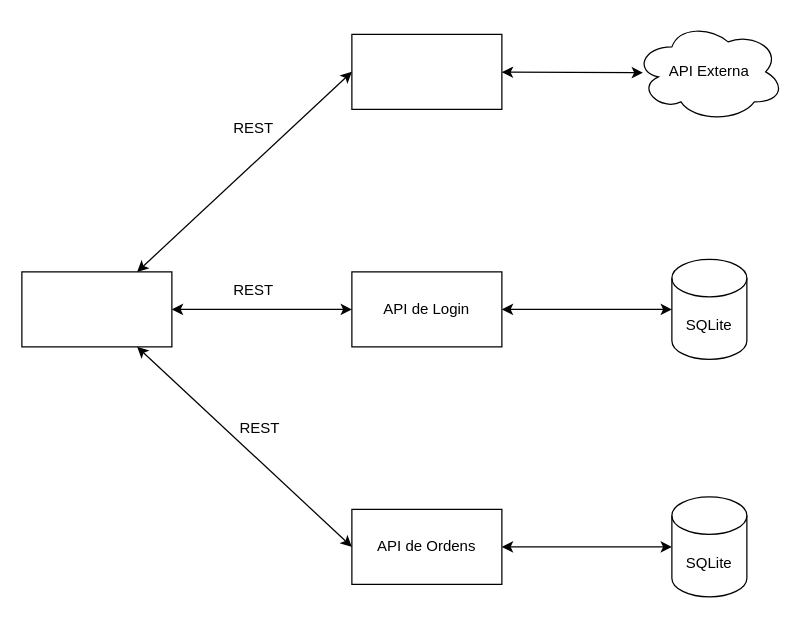
The diagram is 806 pixels wide and 619 high, and some of its shapes have lost their labels. The centre of each missing label's shape, as x and y in pixels:
Task Manager: point 96,309
ViaCEP: point 426,71
